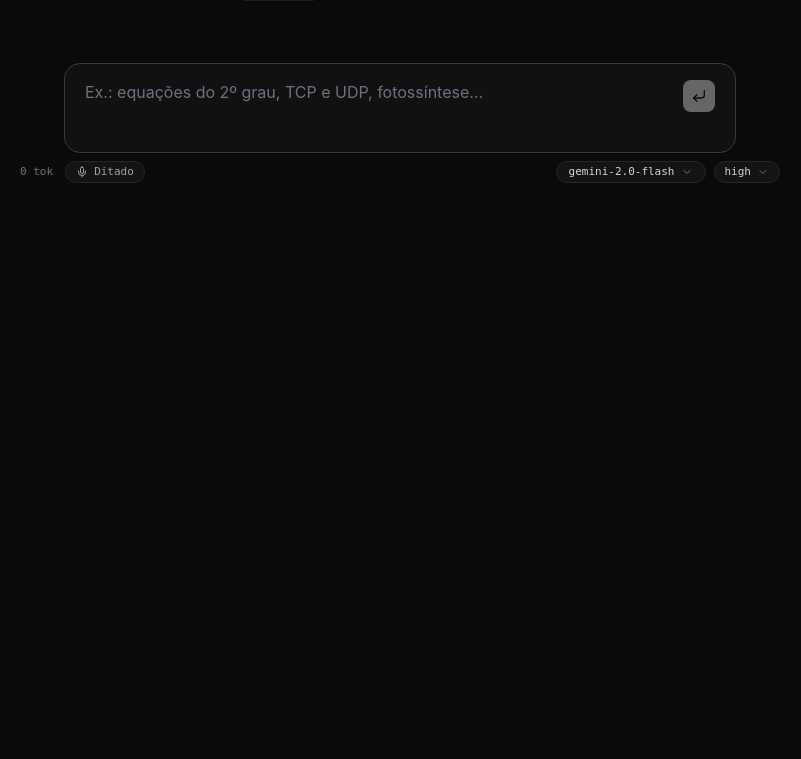
Test case: SessionView Integration › transitions from goal clarification to active probing
Type "Camada 3 e TTL" into the text box with placeholder "Ex.: equações do 2º grau, TCP e UDP, fotossíntese…" at {"x": 380, "y": 108}, box [85,80,675,136]
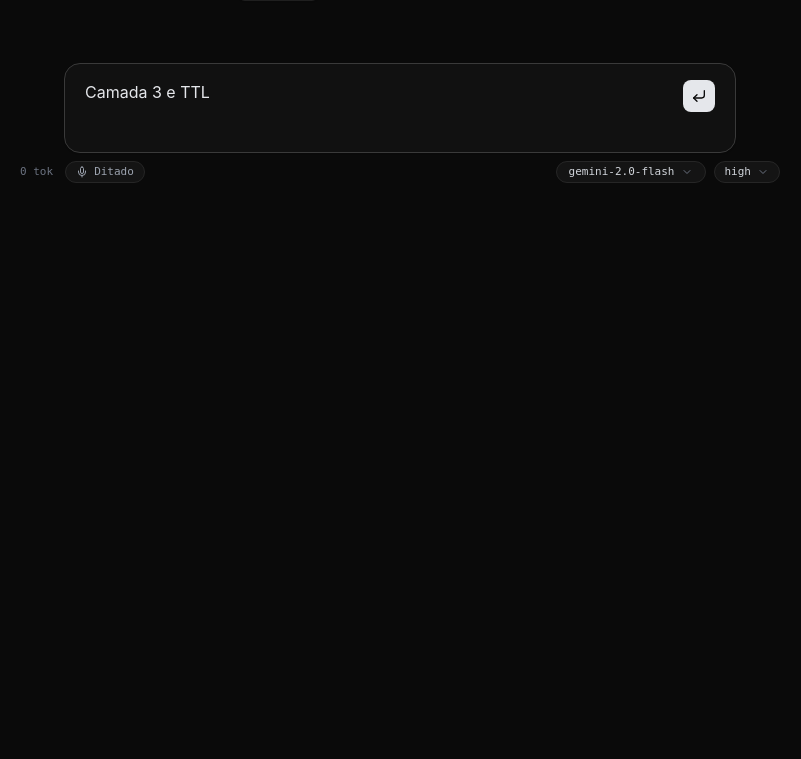
Click the button named "começar" at {"x": 699, "y": 96}, box [683,80,715,112]
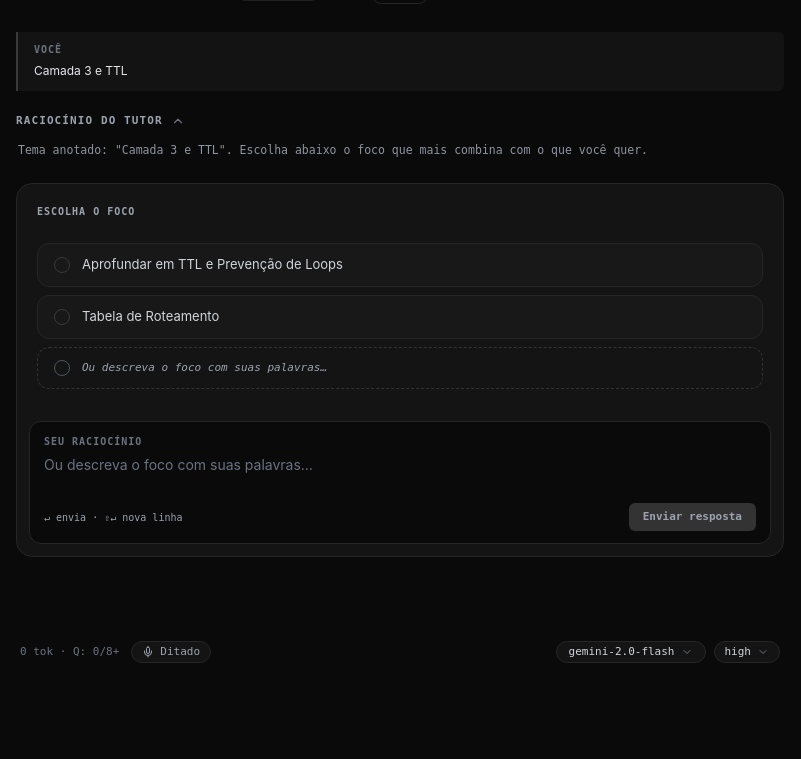
expect the text "Aprofundar em TTL e Prevenção de Loops" is shown: met, box [82,256,343,274]
// Select clarification option and submit
Click the radio button "Aprofundar em TTL e Prevenção de Loops" at {"x": 400, "y": 265}, box [37,243,763,287]
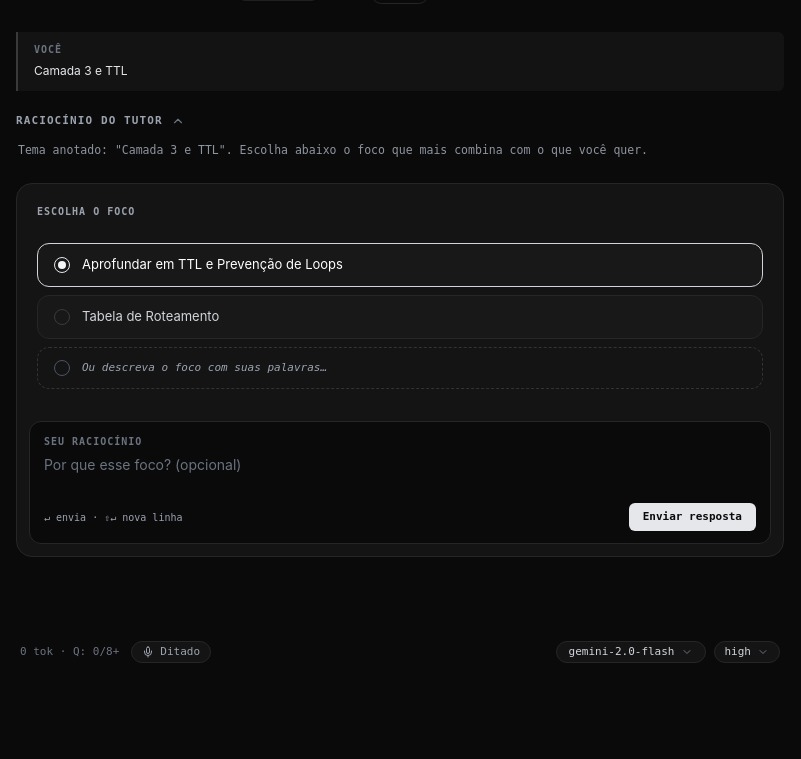
Click the button "Enviar resposta" at {"x": 692, "y": 517}, box [629,503,756,531]
(page scrolled)
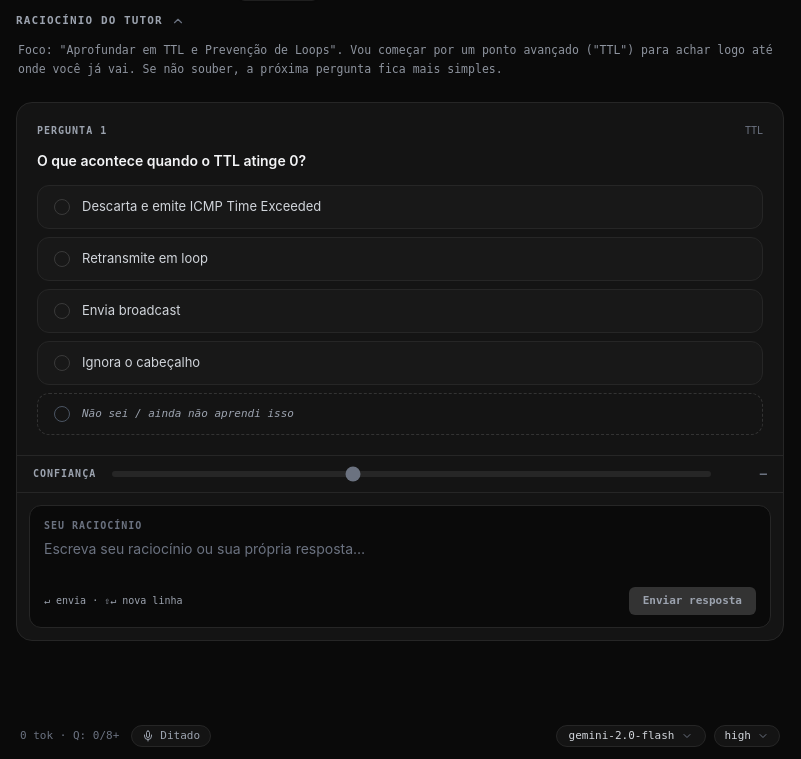
expect the text "O que acontece quando o TTL atinge 0?" is shown: met, box [37,152,306,169]
